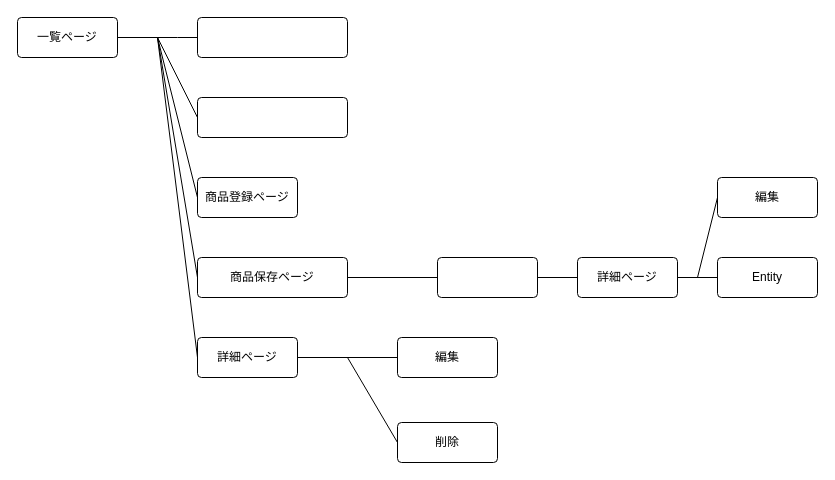
Image size: 835x480. Some labels were removed from this diagram. The centre of each missing label's shape, as x and y in pixels:
"ユーザーログインページ" belongs at pixel 272 37.
"ユーザー新規登録ページ" belongs at pixel 272 117.
"商品一覧" belongs at pixel 487 277.
